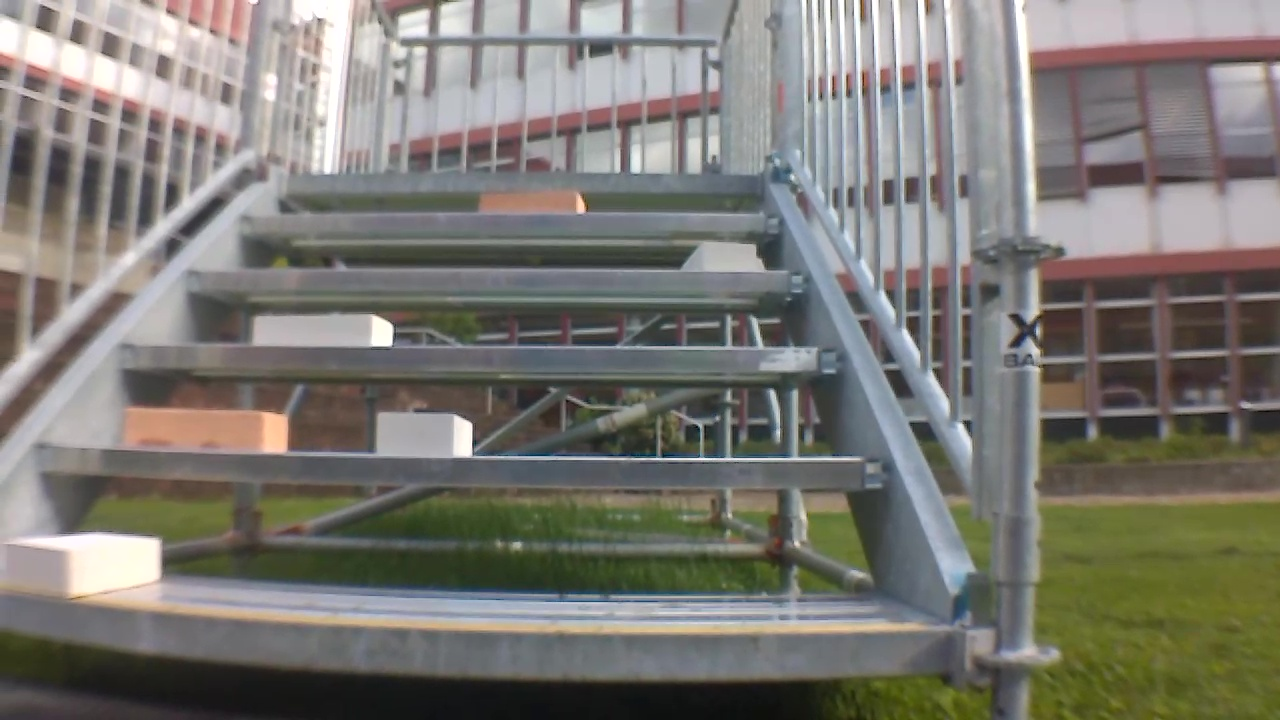brick: (6, 531, 160, 596), (127, 408, 285, 452), (254, 315, 393, 346), (377, 411, 472, 455), (683, 240, 755, 271), (480, 193, 583, 214)
edge: (0, 589, 943, 682), (37, 446, 890, 486), (117, 346, 847, 372), (187, 269, 807, 291), (242, 213, 782, 235), (282, 174, 770, 192)
stairs: (4, 2, 1056, 710)
steps: (4, 164, 953, 694)
